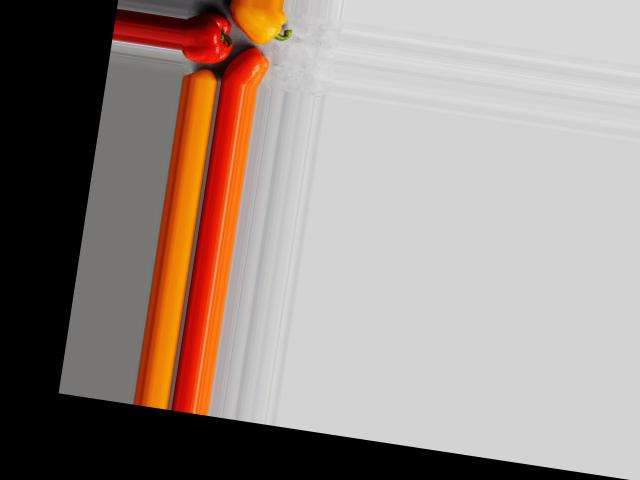bell_pepper: (181, 5, 236, 66)
